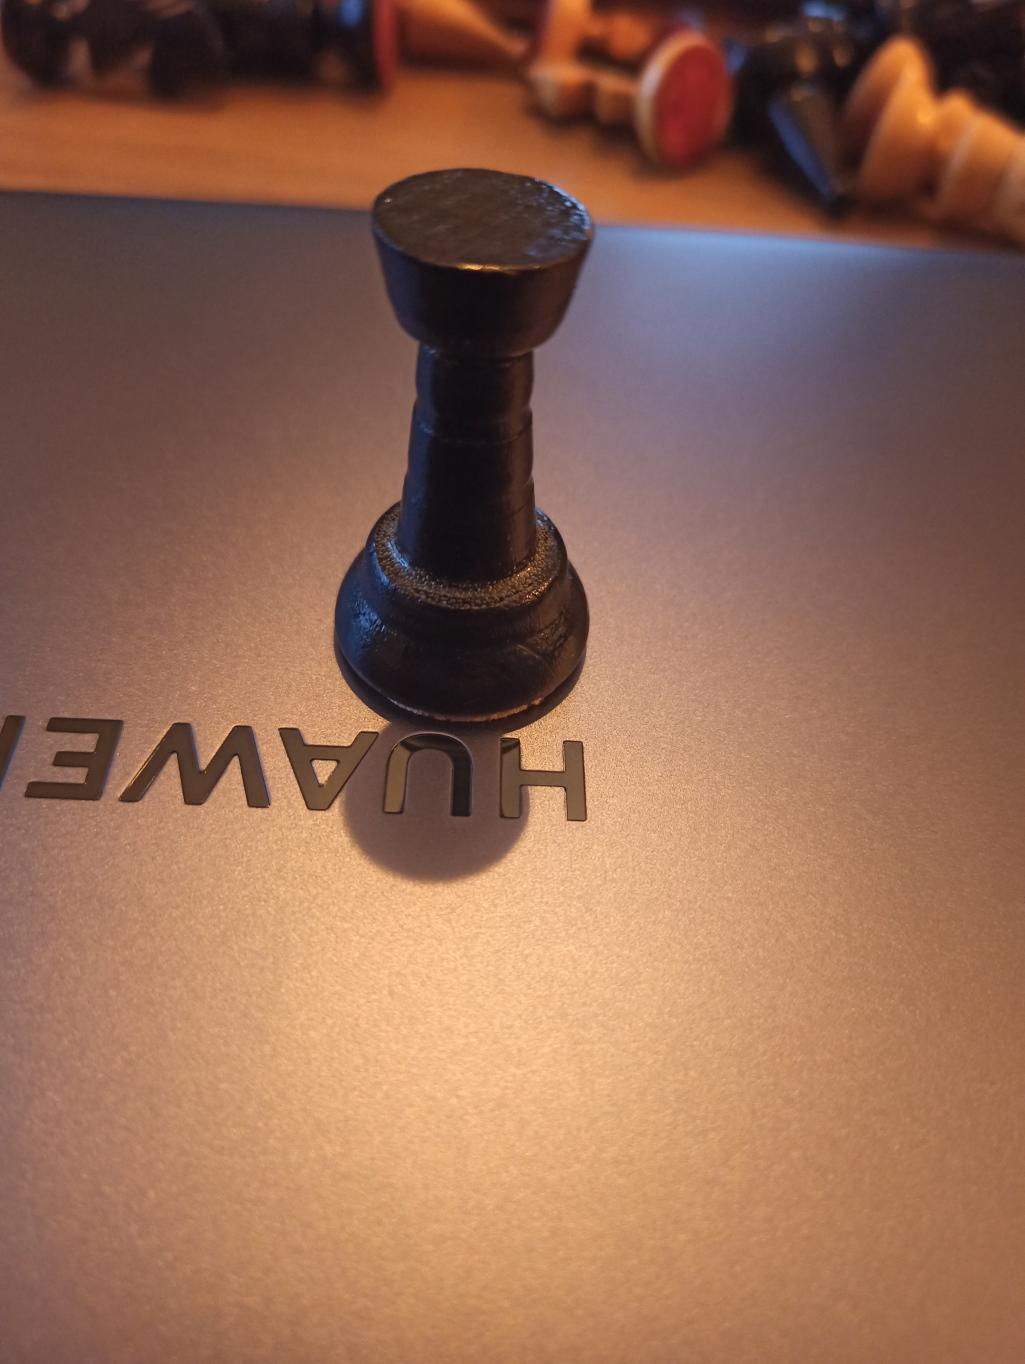brook: (331, 165, 591, 728)
